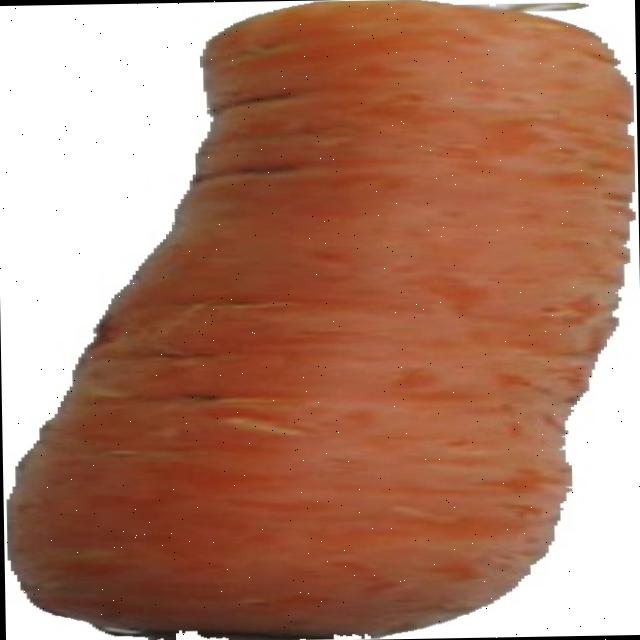carrot: (11, 1, 631, 639)
